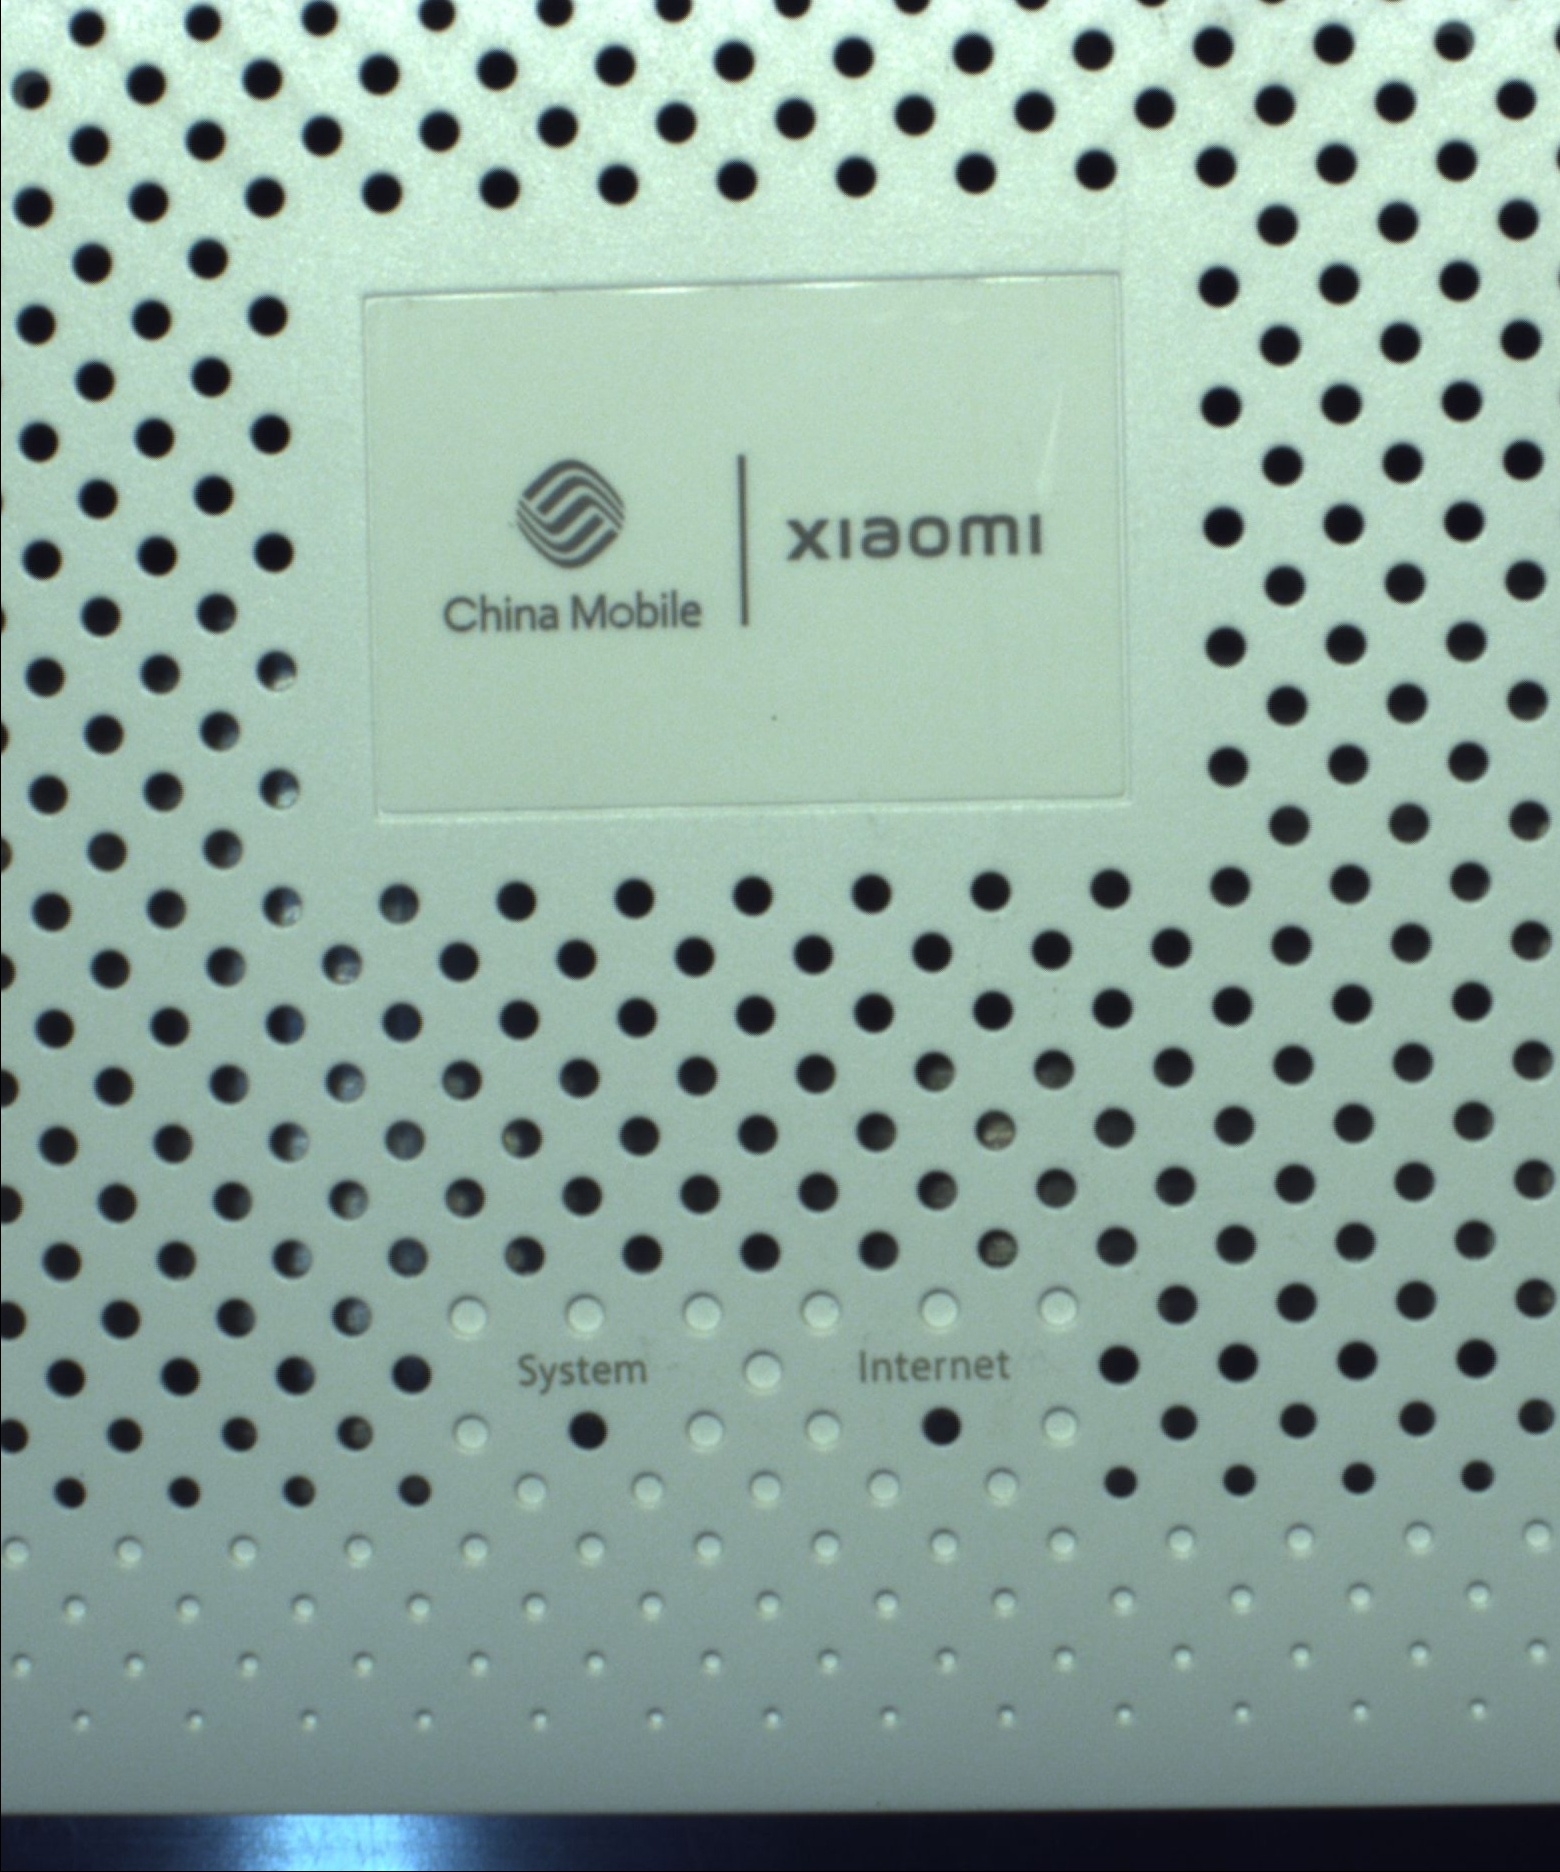MAD_ChinaMobile: (425, 435, 1050, 659)
